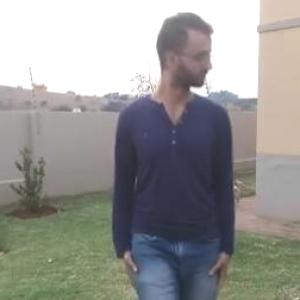follow: (116, 6, 240, 299)
